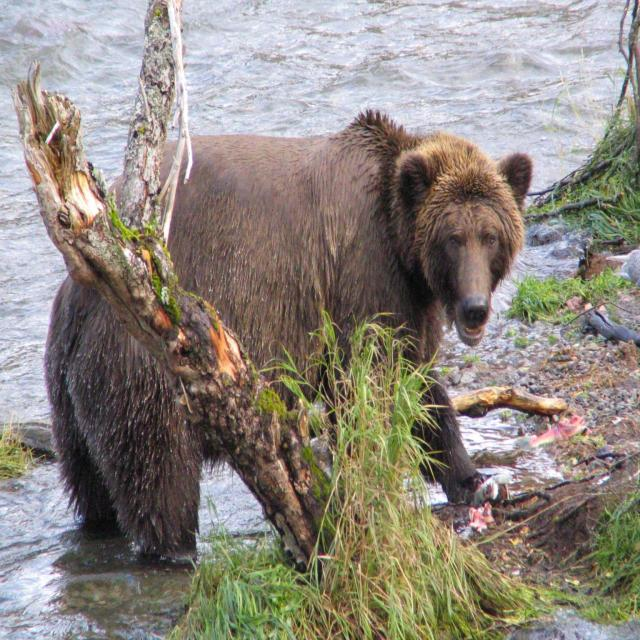bear face: (42, 96, 529, 540)
